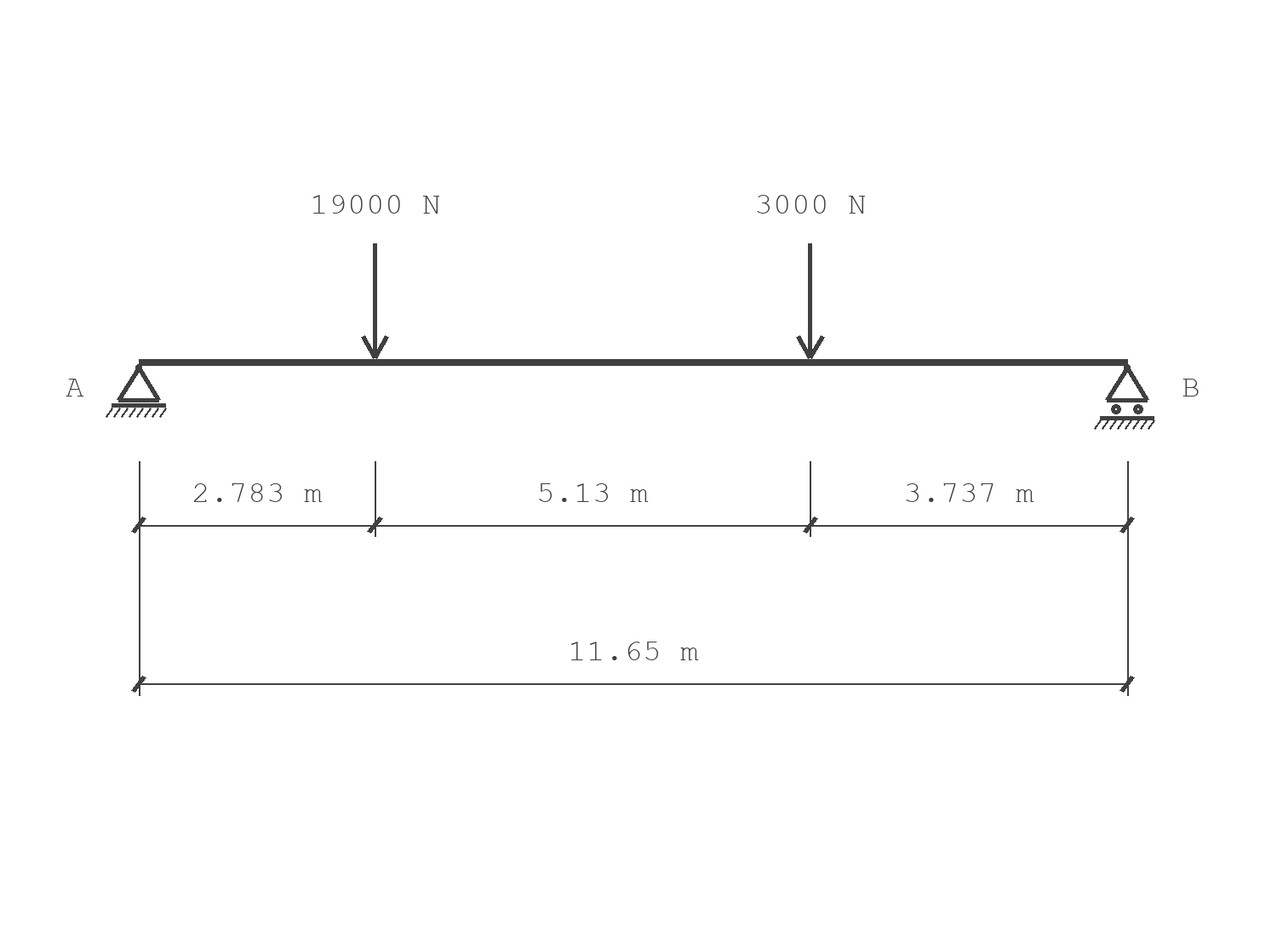pin_support: (106, 364, 167, 418)
point_load: (796, 243, 825, 359), (361, 243, 389, 359)
roller_support: (1094, 364, 1155, 430)
